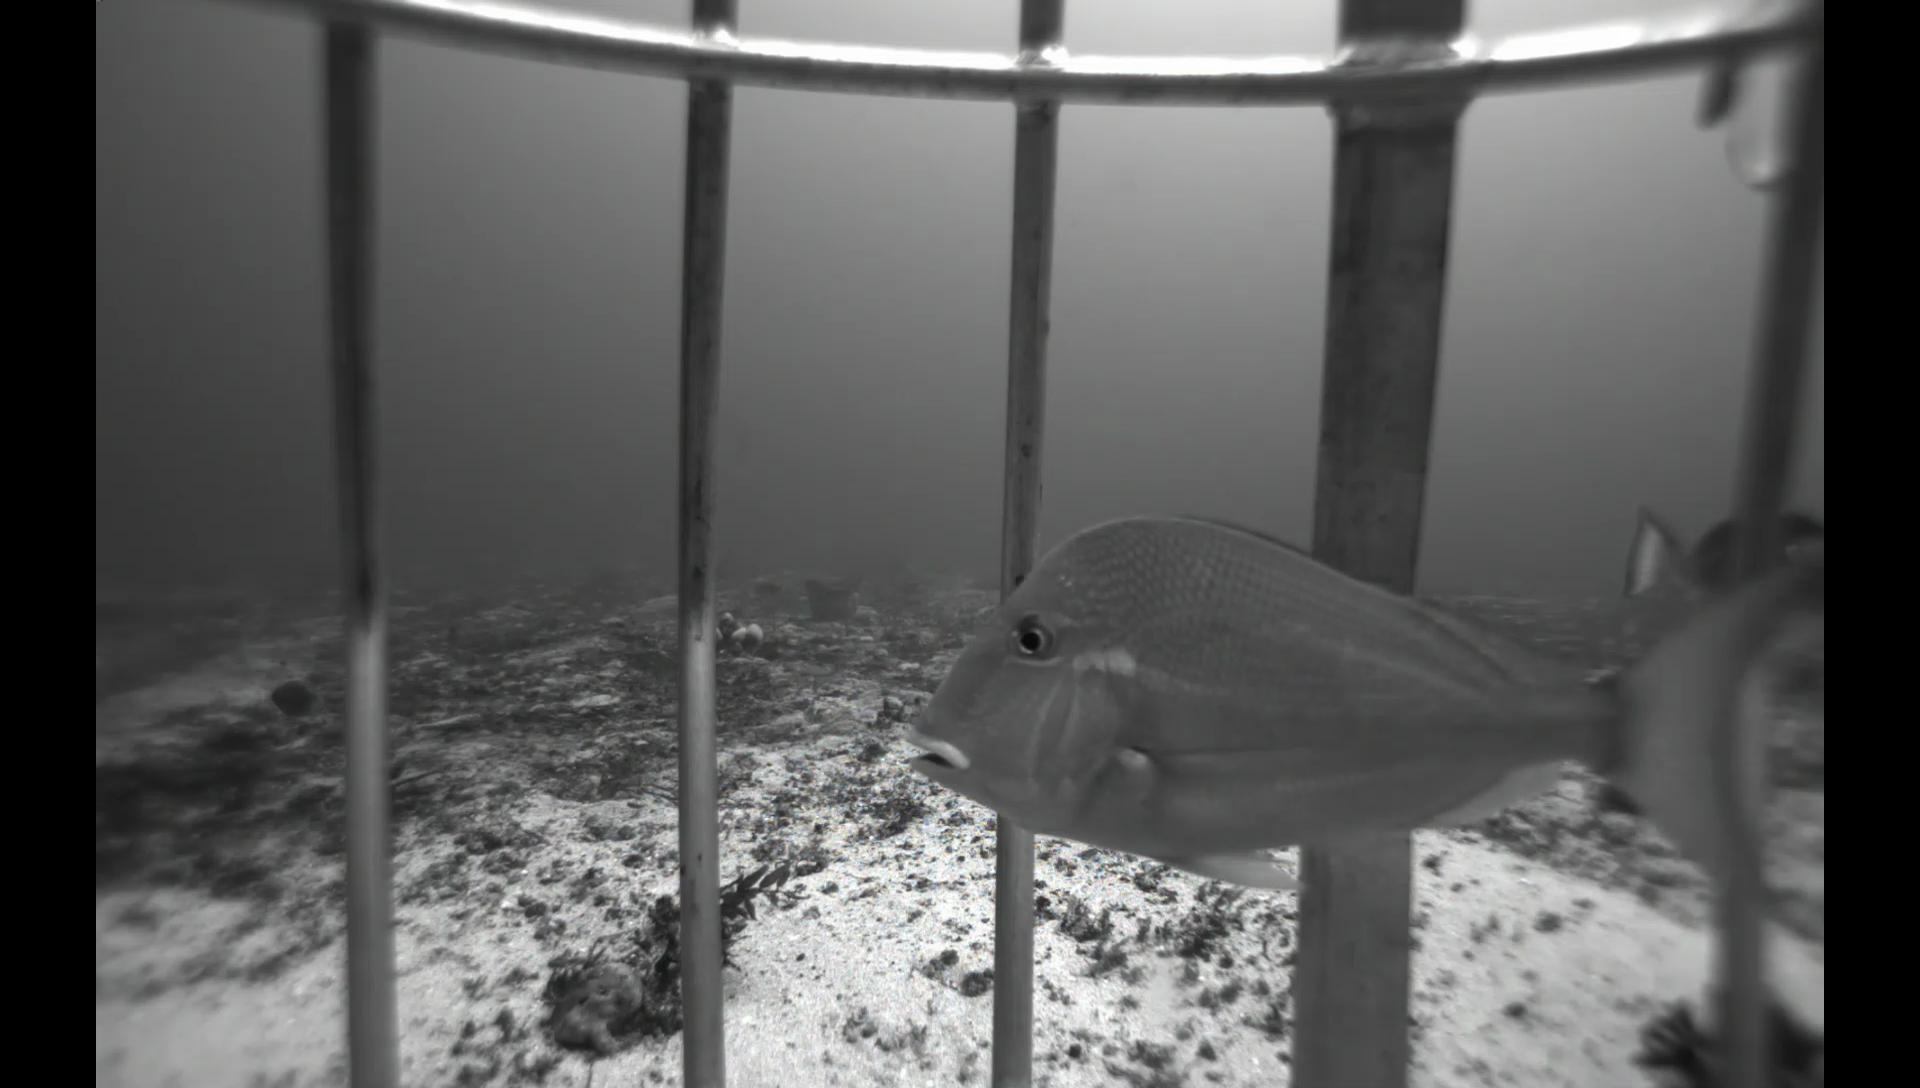CALAMUSPRORIDENS-170210605: (890, 516, 1826, 959)
CHAETODONOCELLATUS-170260307: (1613, 612, 1652, 642)
EPINEPHELUSMORIO-170021211: (1614, 495, 1824, 651)
PRISTIGENYSALTA-170050401: (266, 673, 340, 727)
